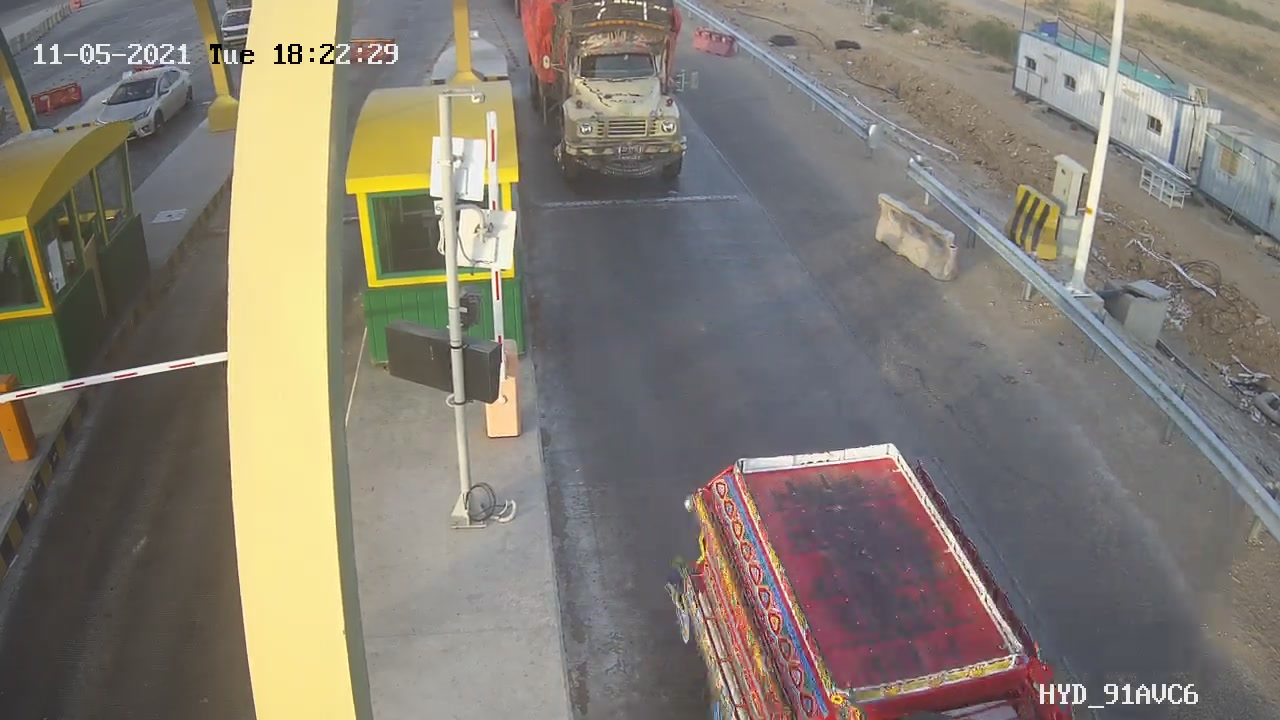F5: (521, 1, 704, 187)
